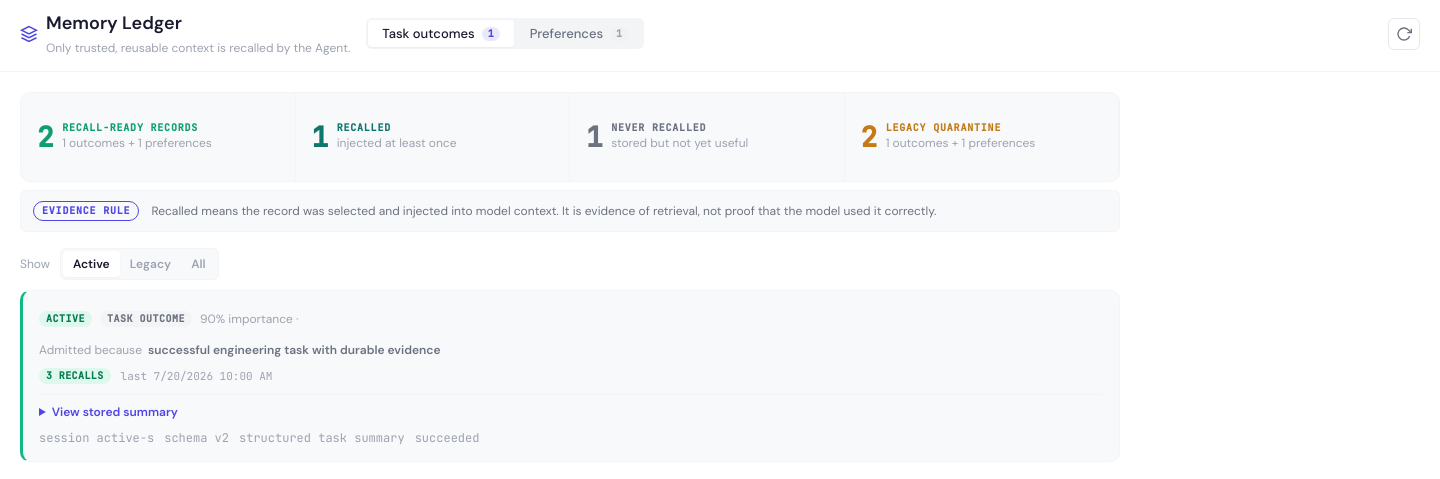
Test: MemoryViewer quality governance › marks an active preference as never recalled
Click the button "Preferences 1".
click(579, 34)  # box [516,20,642,47]
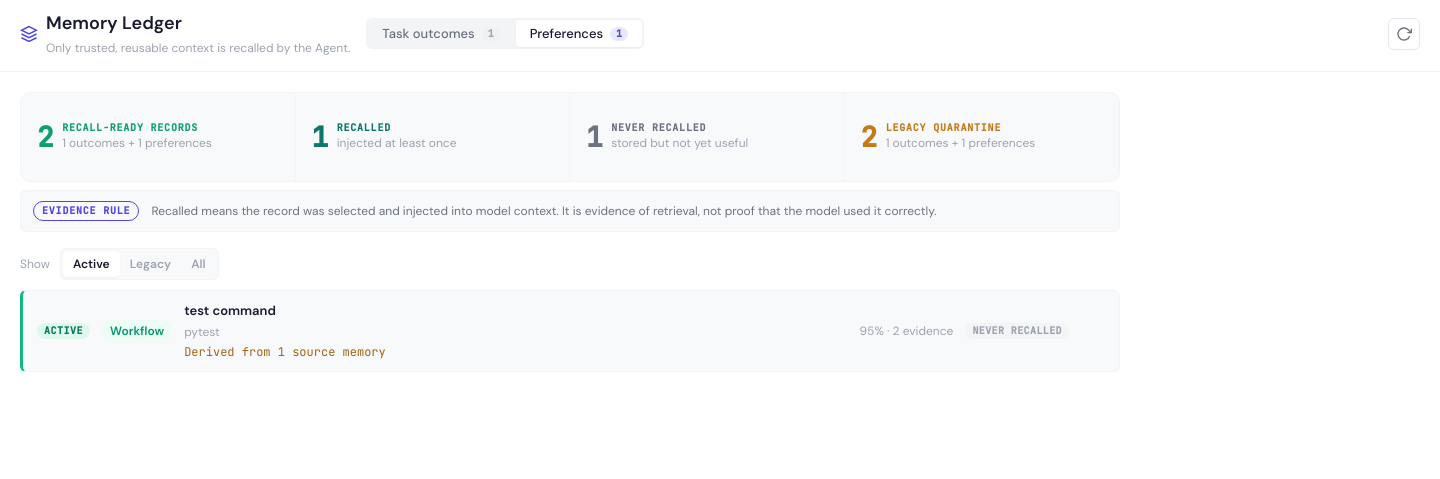
expect the text "Never recalled" is shown: met, box [611,121,706,134]
expect the text "test command" is shown: met, box [184,302,276,319]
expect the text with class "never" is shown: met, box [965,323,1069,339]
